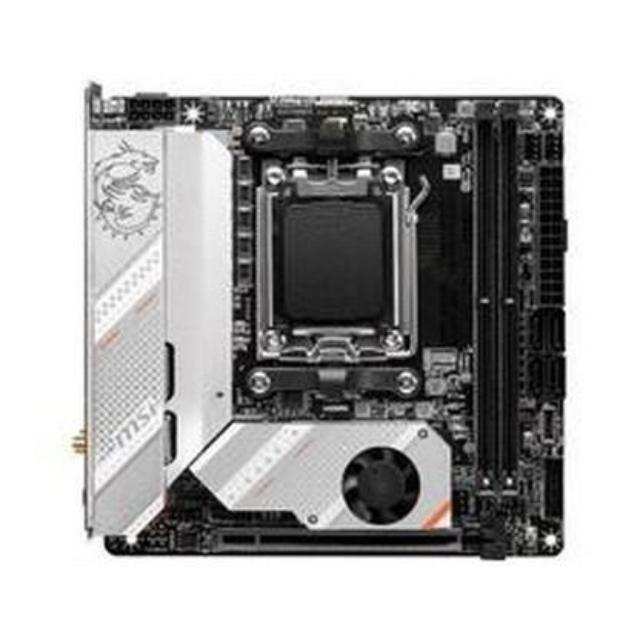Mainboard: (82, 82, 566, 560)
